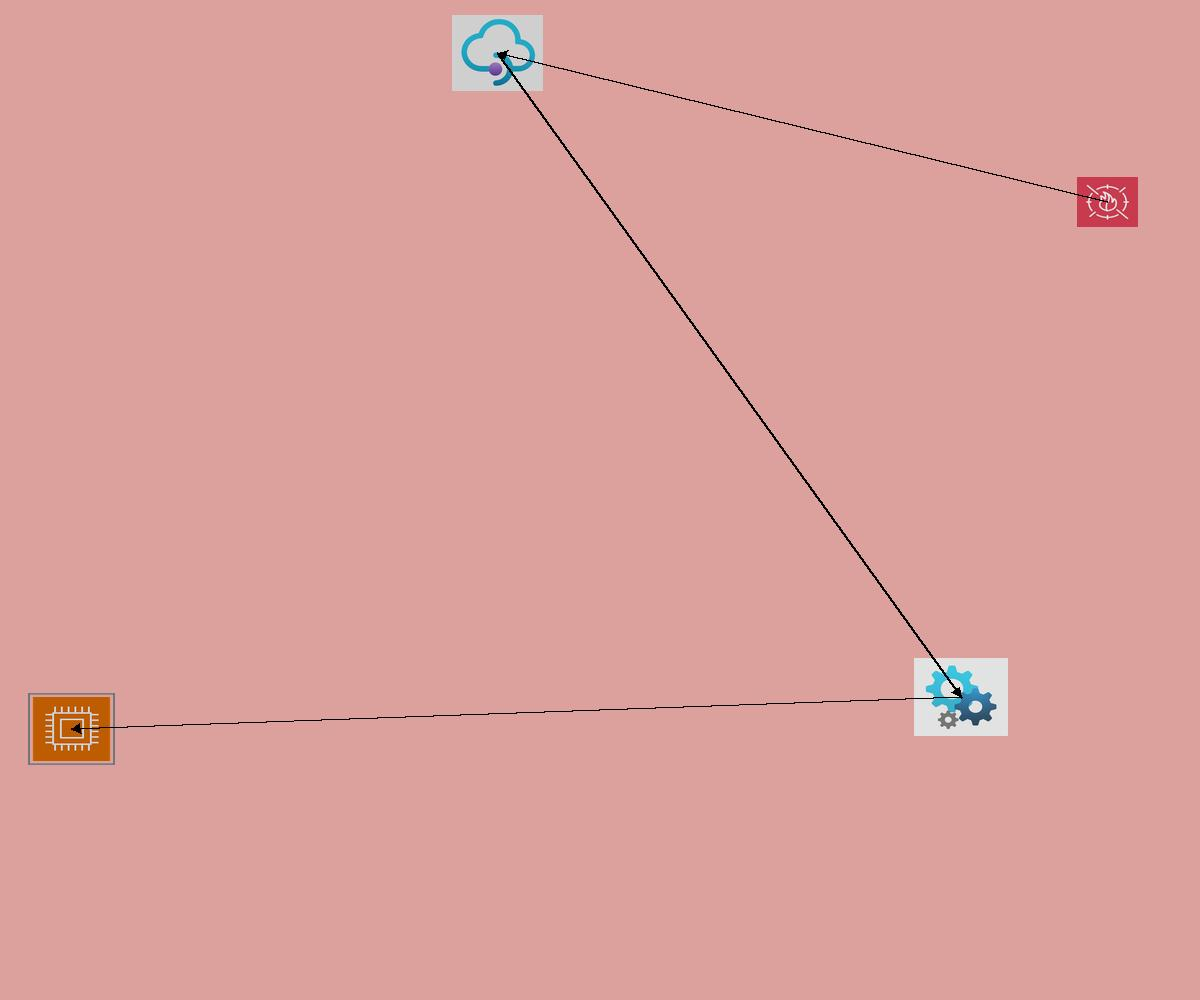AWS-Category_Compute: (28, 693, 115, 765)
AWS-WAF: (1077, 177, 1138, 227)
Azure_api: (914, 658, 1008, 736)
Azure_api_gateway: (452, 15, 543, 91)
